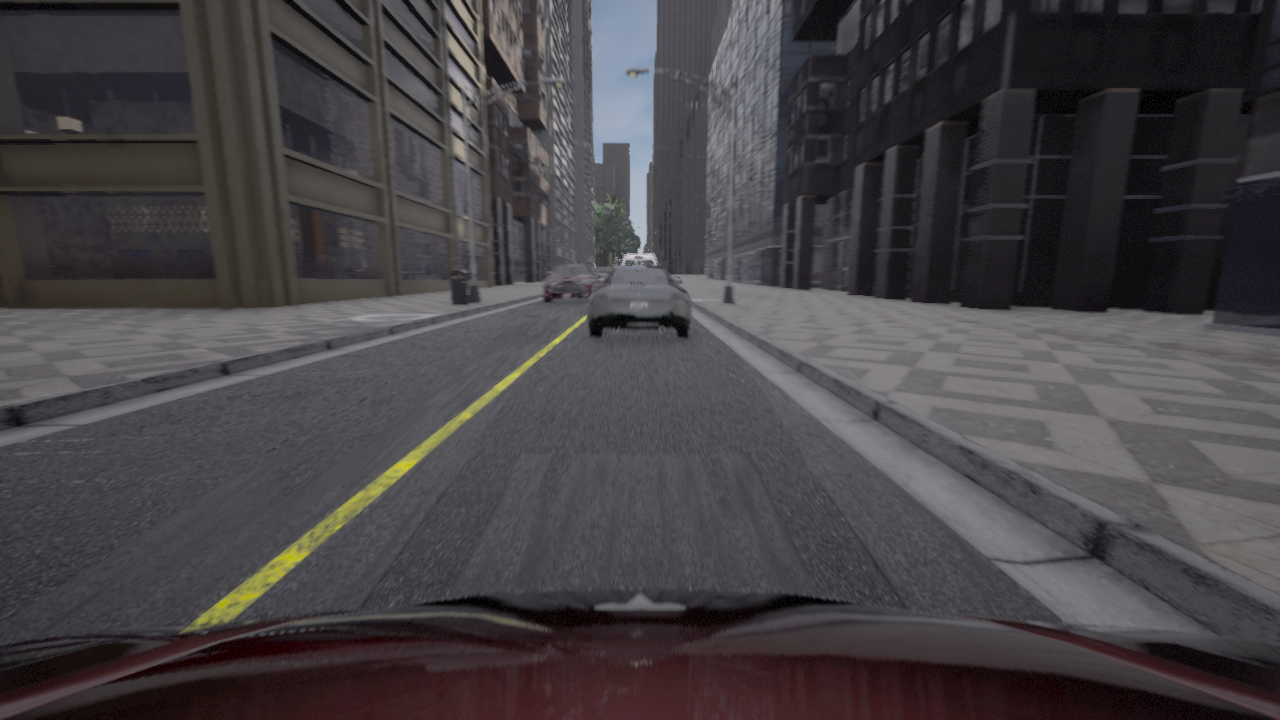cyclist: (0, 588, 1279, 719), (587, 265, 690, 337), (543, 263, 598, 301), (621, 253, 659, 265), (593, 268, 610, 277)
